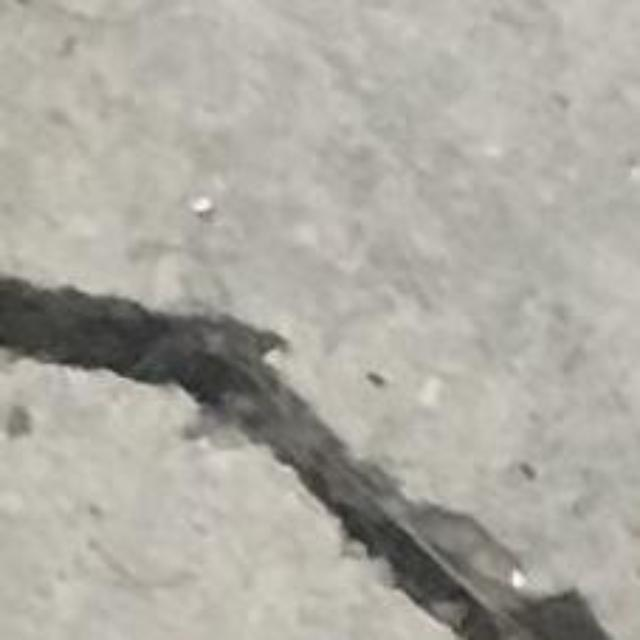crack: (0, 277, 611, 639)
